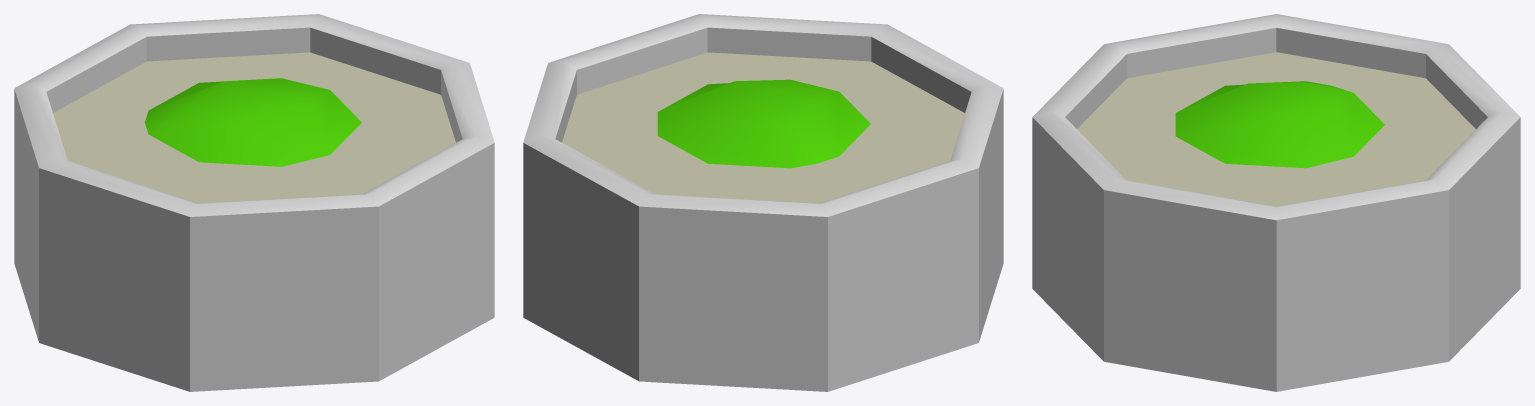
File: WasabiDippingCup.fbx
The picture shows the model from 3 angles, left to right: view 1: azimuth 30°, elevation 25°; view 2: azimuth 150°, elevation 25°; view 3: azimuth 270°, elevation 25°; orthographic projection.
Visible parts, largest first — view 1: DippingCup, Ginger, Wasabi; view 2: DippingCup, Ginger, Wasabi; view 3: DippingCup, Ginger, Wasabi.
Boxes of the visible parts, bbox=[...] form: DippingCup: bbox=[14, 14, 494, 391]; Ginger: bbox=[53, 52, 455, 203]; Wasabi: bbox=[145, 78, 361, 166]; DippingCup: bbox=[523, 14, 1003, 391]; Ginger: bbox=[562, 52, 964, 203]; Wasabi: bbox=[657, 79, 870, 168]; DippingCup: bbox=[1032, 14, 1520, 391]; Ginger: bbox=[1077, 52, 1475, 206]; Wasabi: bbox=[1175, 81, 1384, 168].
Bounding box in the file's own units: 17.36 × 7.24 × 17.36.
